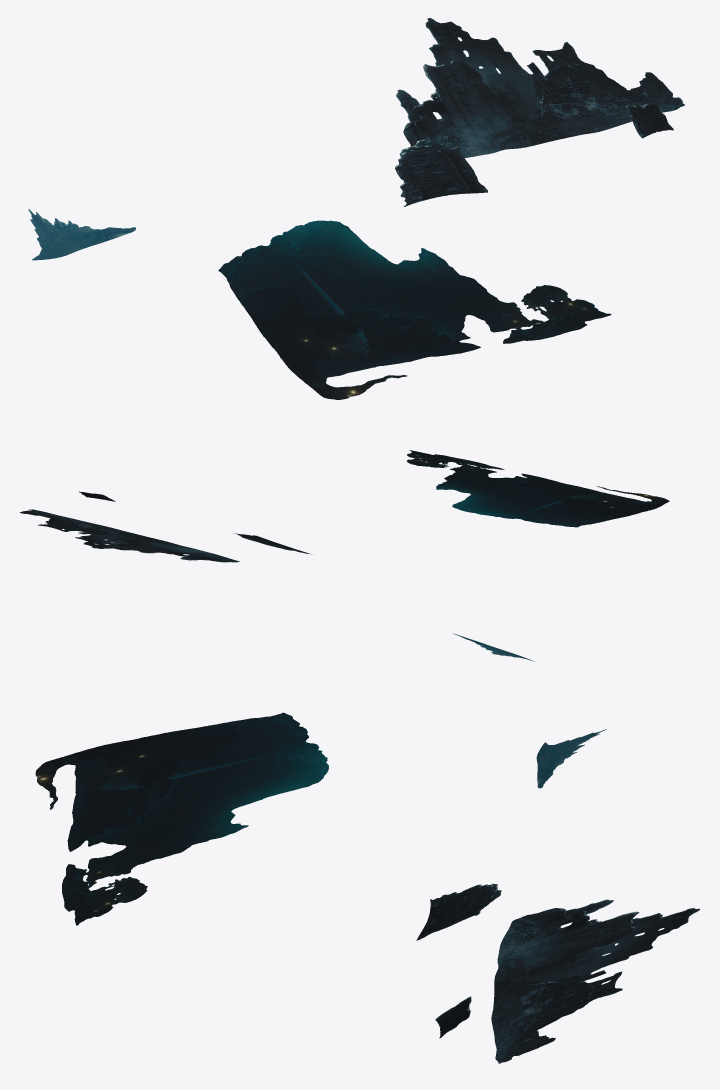
Rendered from map_3d_chapter_03.FBX.
The picture shows the model from 3 angles, top to bottom: view 1: azimuth 30°, elevation 25°; view 2: azimuth 150°, elevation 25°; view 3: azimuth 270°, elevation 25°; orthographic projection. The views are drawn at different scales.
Visible parts, largest first — view 1: chapter_03_element_01; view 2: chapter_03_element_01; view 3: chapter_03_element_01.
Part boxes in pixels (<box>): chapter_03_element_01: <box>28,18,684,399</box>; chapter_03_element_01: <box>20,450,669,661</box>; chapter_03_element_01: <box>35,712,699,1063</box>.
Bounding box in the file's own units: 250 × 30.61 × 204.
